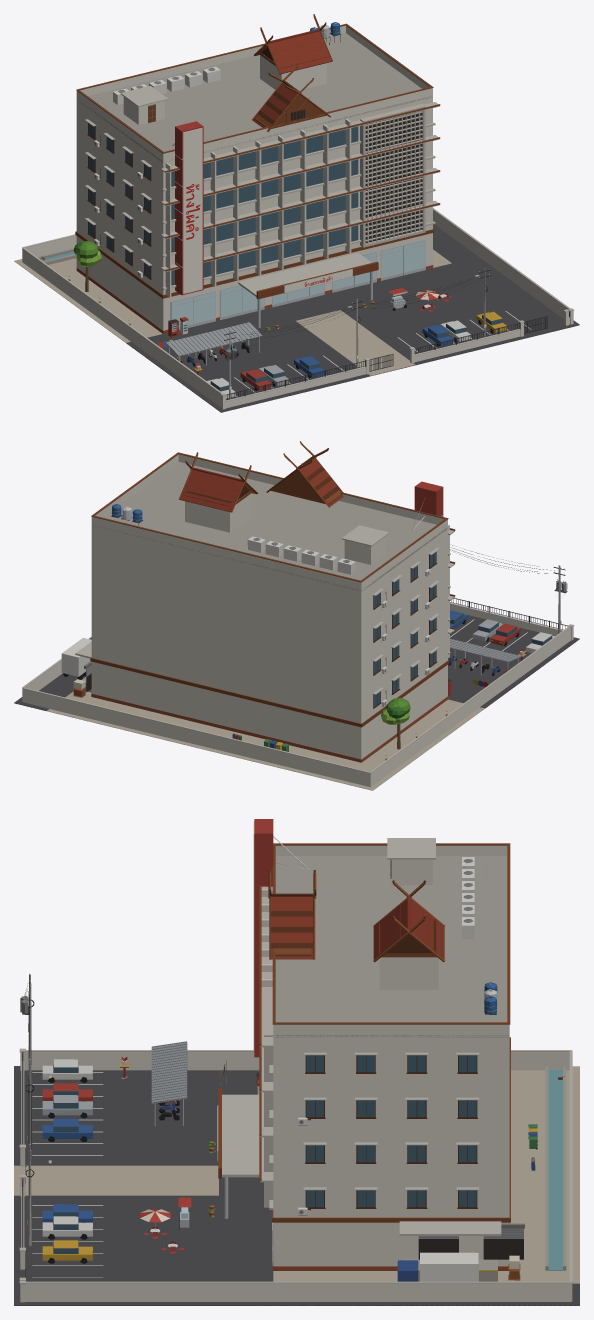
Rendered from store.glb.
The picture shows the model from 3 angles, top to bottom: view 1: azimuth 30°, elevation 25°; view 2: azimuth 150°, elevation 25°; view 3: azimuth 270°, elevation 25°; orthographic projection. The views are drawn at different scales.
Visible parts, largest first — view 1: body, windows; view 2: body, windows; view 3: body, windows.
Part boxes in pixels (<box>): body: <box>14,14,579,412</box>; windows: <box>88,109,502,393</box>; body: <box>14,441,579,790</box>; windows: <box>86,552,552,706</box>; body: <box>14,819,579,1305</box>; windows: <box>49,821,523,1259</box>.
Bounding box in the file's own units: 47.9 × 29.61 × 47.9.
